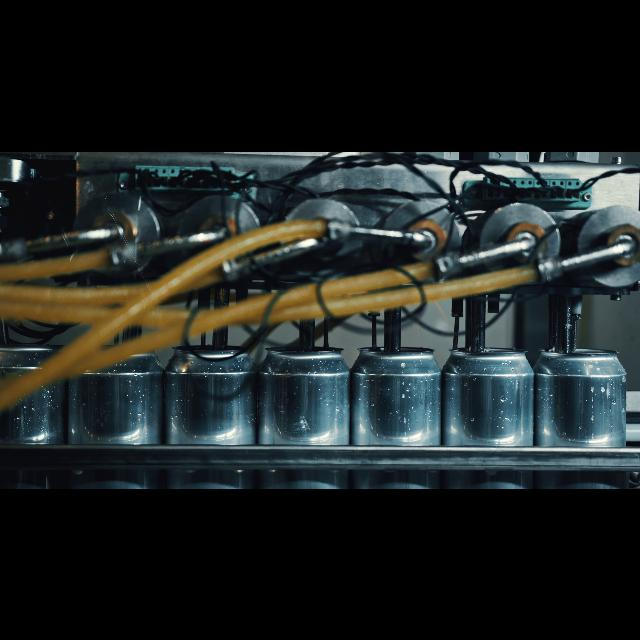empty: (66, 334, 160, 488), (260, 332, 350, 488), (446, 336, 534, 488), (167, 332, 251, 488), (543, 334, 627, 488), (359, 334, 438, 488), (0, 336, 58, 488)
